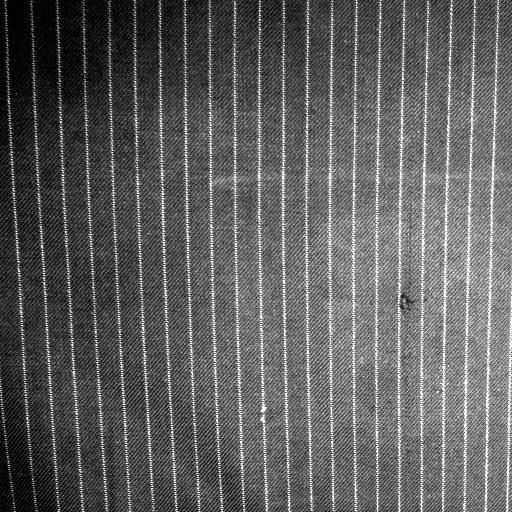fabric_hole: (395, 288, 421, 324)
